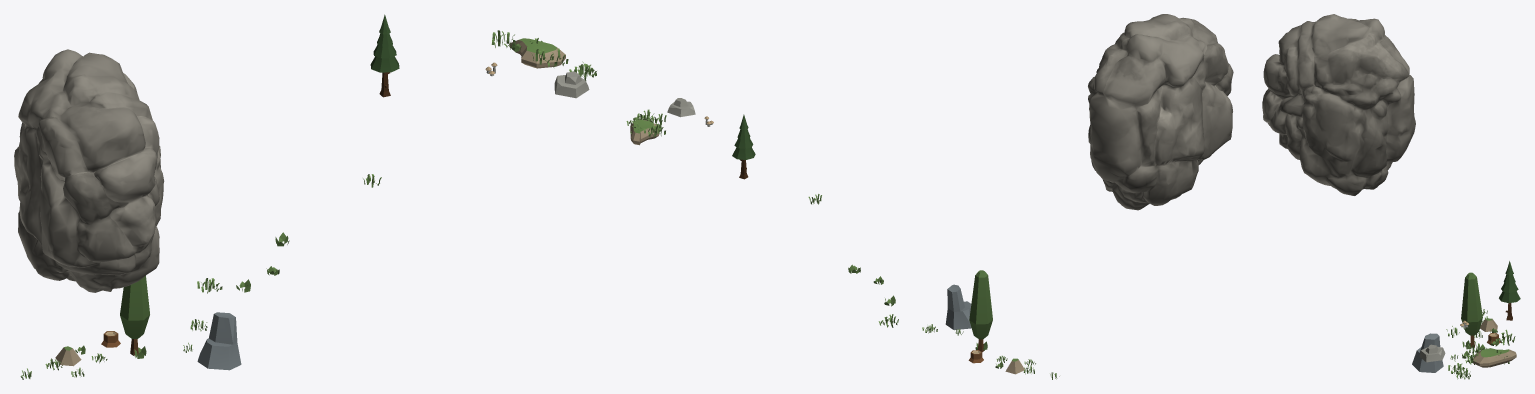
File: cell_x0_z2_render.gltf
3 views of the same model, side by side, from view 1: azimuth 30°, elevation 25°; view 2: azimuth 150°, elevation 25°; view 3: azimuth 270°, elevation 25° (orthographic). The views are drawn at different scales.
Parts seen in each view (by area): view 1: cell_x0_z2; view 2: cell_x0_z2; view 3: cell_x0_z2.
Boxes of the visible parts, bbox=[...] form: cell_x0_z2: bbox=[14, 14, 596, 379]; cell_x0_z2: bbox=[626, 14, 1233, 379]; cell_x0_z2: bbox=[1262, 14, 1520, 379].
Size of the model in its own units: 44.71 by 25.44 by 21.11.
Materials: 12 (1 with a texture image).
